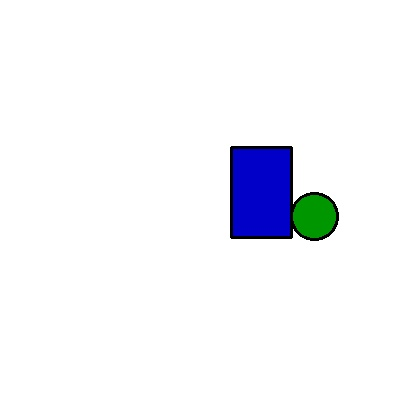circle: (291, 187, 337, 245)
rectangle: (231, 147, 291, 237)
